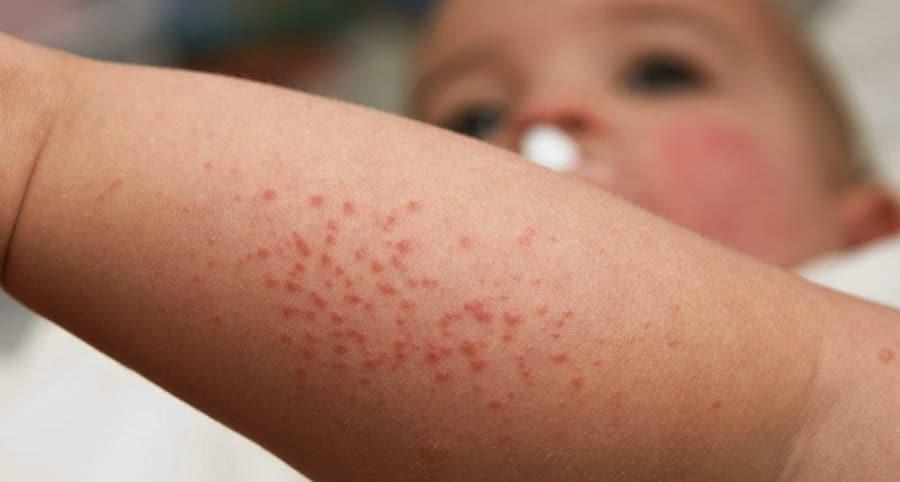Fleas: (246, 175, 550, 398), (447, 295, 512, 385), (339, 237, 420, 297), (344, 318, 429, 375), (279, 223, 315, 292)
